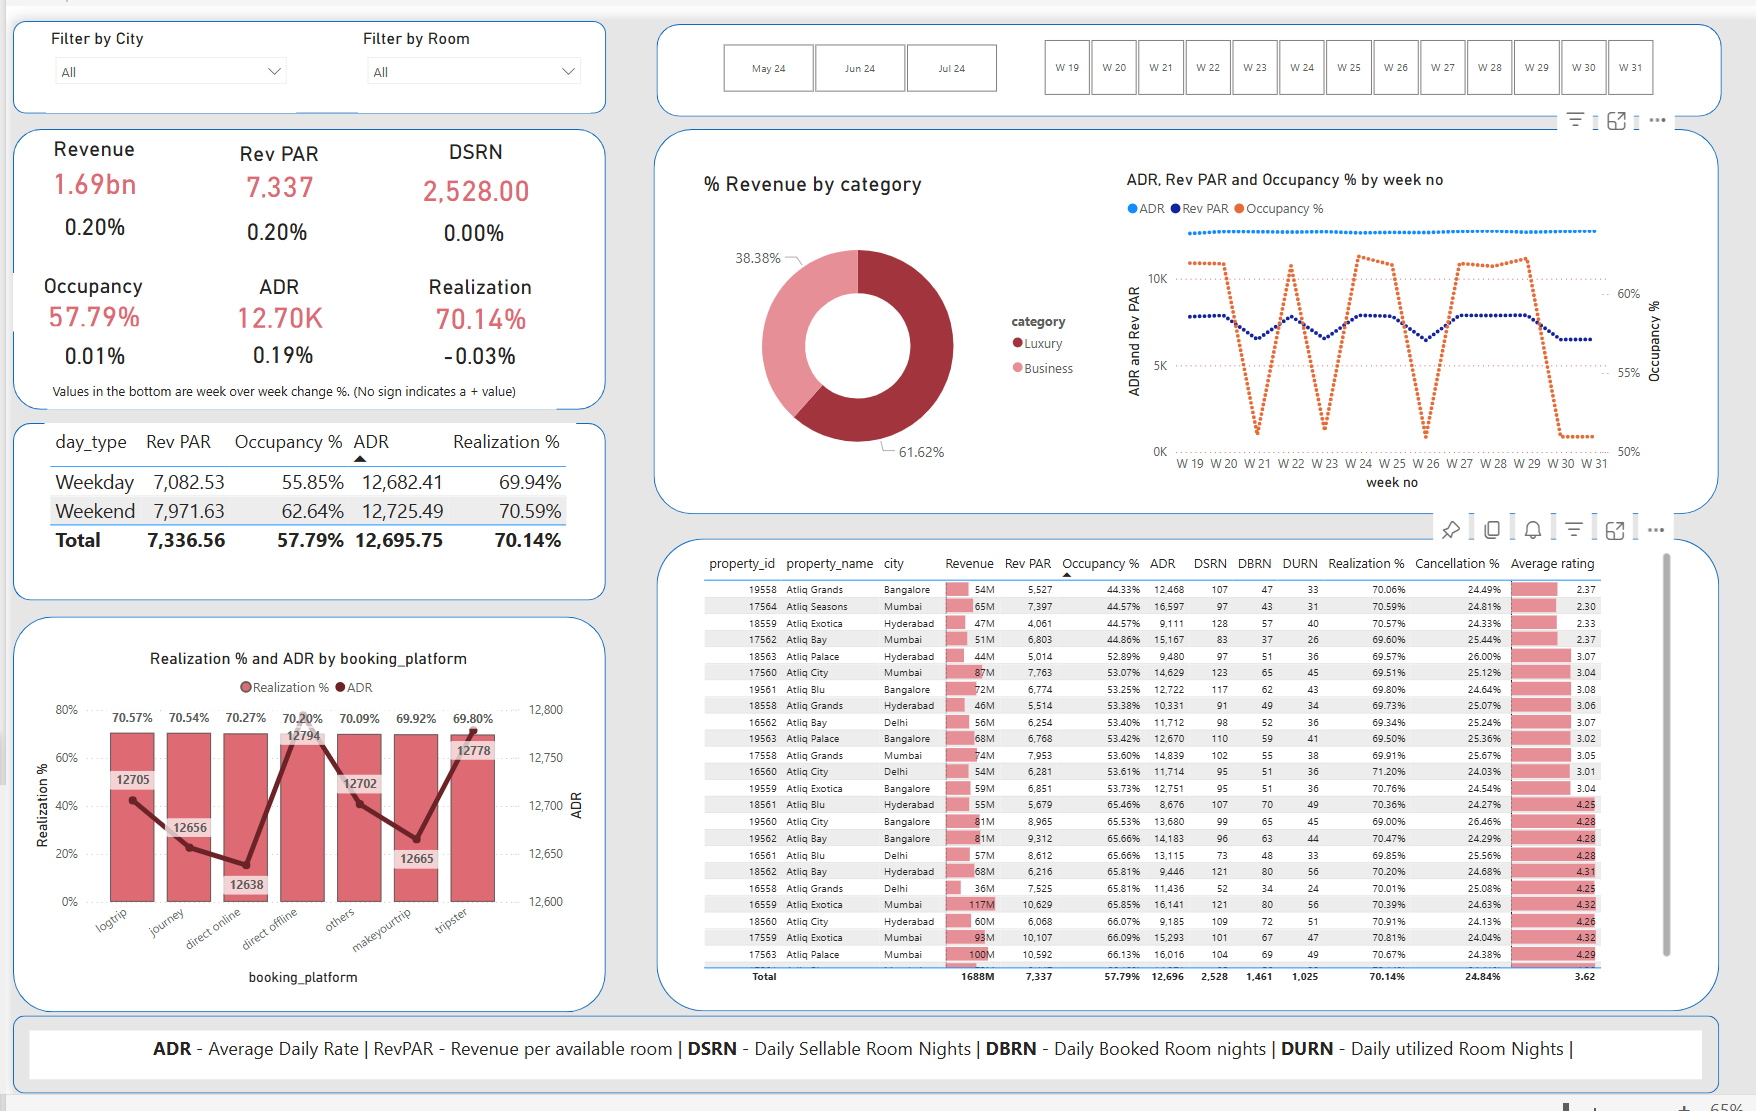

This screenshot's page, from the dashboard's own definition file:
{"tool":"powerbi","page":{"name":"Page 1","canvas":[1800,1100],"ordinal":0},"visuals":[{"type":"shape","box":[660,530,1090,485],"z":0},{"type":"shape","box":[657.5,110,1092.5,395],"z":1000},{"type":"shape","box":[0,110,608,288],"z":2000},{"type":"shape","box":[0,610,608,406],"z":3000},{"type":"shape","box":[0,412,608,182],"z":4000},{"type":"shape","box":[660,2.5,1092.5,95],"z":5000},{"type":"shape","box":[0,0,608.3,95],"z":6000},{"type":"tableEx","fields":{"Values":["dim_hotels.property_id","dim_hotels.property_name","dim_hotels.city","key_measures.Revenue","key_measures.Rev PAR","key_measures.Occupancy %","key_measures.ADR","key_measures.DSRN","key_measures.DBRN","key_measures.DURN","key_measures.Realization %","key_measures.Cancellation %"]},"box":[702.5,540,1002.5,452.5],"z":7000},{"type":"slicer","title":"Filter by City","fields":{"Values":["dim_hotels.city"]},"box":[33.3,8.3,256.7,86.7],"z":8000},{"type":"card","fields":{"Values":["key_measures.Revenue WoW change %"]},"box":[28,186,112,48],"z":9000},{"type":"slicer","title":"Filter by Room","fields":{"Values":["dim_rooms.room_class"]},"box":[353.3,8.3,238.3,86.7],"z":10000},{"type":"slicer","fields":{"Values":["dim_date.mmm yy"]},"box":[702.5,17.5,330,62.5],"z":11000},{"type":"card","title":"Revenue","fields":{"Values":["key_measures.Revenue"]},"box":[18,118,130,68],"z":12000},{"type":"donutChart","title":"% Revenue by category","fields":{"Category":["dim_hotels.category"],"Y":["key_measures.Revenue"]},"box":[703.3,153.3,400,333.3],"z":13000},{"type":"slicer","fields":{"Values":["dim_date.week no"]},"box":[1032,12,674,70],"z":14000},{"type":"tableEx","box":[253.3,163.3,73.3,70],"z":15000},{"type":"lineChart","fields":{"Category":["dim_date.week no"],"Y":["key_measures.ADR","key_measures.Rev PAR"],"Y2":["key_measures.Occupancy %"]},"box":[1137.5,152.5,557.5,332.5],"z":16000},{"type":"lineStackedColumnComboChart","fields":{"Category":["fact_bookings.booking_platform"],"Y":["key_measures.Realization %"],"Y2":["key_measures.ADR"]},"box":[17.5,642.5,572.5,350],"z":17000},{"type":"tableEx","fields":{"Values":["dim_date.day_type","key_measures.Rev PAR","key_measures.Occupancy %","key_measures.ADR","key_measures.Realization %"]},"box":[32.5,412.5,545,150],"z":18000},{"type":"card","title":"Rev PAR","fields":{"Values":["key_measures.Rev PAR"]},"box":[191.7,123.3,161.7,63.3],"z":19000},{"type":"card","title":"Realization","fields":{"Values":["key_measures.Realization %"]},"box":[398,260,162,62],"z":20000},{"type":"card","title":"ADR","fields":{"Values":["key_measures.ADR"]},"box":[211.7,260,121.7,60],"z":21000},{"type":"card","title":"Occupancy","fields":{"Values":["key_measures.Occupancy %"]},"box":[0,258.3,165,60],"z":22000},{"type":"card","title":"DSRN","fields":{"Values":["key_measures.DSRN"]},"box":[390,122,168,76],"z":23000},{"type":"shape","box":[0,1020,1750,80],"z":24000},{"type":"textbox","box":[17.5,1035,1715,50],"z":25000},{"type":"card","title":".","fields":{"Values":["key_measures.Rev PAR WoW change %"]},"box":[213.3,186.7,113.3,56.7],"z":26000},{"type":"card","fields":{"Values":["key_measures.Occupancy WoW change %"]},"box":[28.3,318.3,111.7,48.3],"z":27000},{"type":"card","fields":{"Values":["key_measures.ADR WoW change %"]},"box":[220,316.7,113.3,48.3],"z":28000},{"type":"card","fields":{"Values":["key_measures.Realisation WoW change %"]},"box":[422,318,112,48],"z":29000},{"type":"card","title":".","fields":{"Values":["key_measures.DSRN WoW change %"]},"box":[416,188,114,56],"z":30000},{"type":"textbox","box":[36,364,522,34],"z":31000}]}

Visuals, with their boxes on the page's 1800x1100 design canvas (x1, y1, x2, y2). These are canvas units, not pixel positions in the 1756x1111 screenshot, which may show the page scaled, cropped or inside an application window:
shape: Rect(660, 530, 1750, 1015)
shape: Rect(658, 110, 1750, 505)
shape: Rect(0, 110, 608, 398)
shape: Rect(0, 610, 608, 1016)
shape: Rect(0, 412, 608, 594)
shape: Rect(660, 2, 1752, 98)
shape: Rect(0, 0, 608, 95)
tableEx - dim_hotels.property_id x dim_hotels.property_name: Rect(702, 540, 1705, 992)
"Filter by City" slicer: Rect(33, 8, 290, 95)
card - key_measures.Revenue WoW change %: Rect(28, 186, 140, 234)
"Filter by Room" slicer: Rect(353, 8, 592, 95)
slicer - dim_date.mmm yy: Rect(702, 18, 1032, 80)
"Revenue" card: Rect(18, 118, 148, 186)
"% Revenue by category" donutChart: Rect(703, 153, 1103, 487)
slicer - dim_date.week no: Rect(1032, 12, 1706, 82)
tableEx: Rect(253, 163, 327, 233)
lineChart - dim_date.week no x key_measures.ADR: Rect(1138, 152, 1695, 485)
lineStackedColumnComboChart - fact_bookings.booking_platform x key_measures.Realization %: Rect(18, 642, 590, 992)
tableEx - dim_date.day_type x key_measures.Rev PAR: Rect(32, 412, 578, 562)
"Rev PAR" card: Rect(192, 123, 353, 187)
"Realization" card: Rect(398, 260, 560, 322)
"ADR" card: Rect(212, 260, 333, 320)
"Occupancy" card: Rect(0, 258, 165, 318)
"DSRN" card: Rect(390, 122, 558, 198)
shape: Rect(0, 1020, 1750, 1100)
textbox: Rect(18, 1035, 1732, 1085)
"." card: Rect(213, 187, 327, 243)
card - key_measures.Occupancy WoW change %: Rect(28, 318, 140, 367)
card - key_measures.ADR WoW change %: Rect(220, 317, 333, 365)
card - key_measures.Realisation WoW change %: Rect(422, 318, 534, 366)
"." card: Rect(416, 188, 530, 244)
textbox: Rect(36, 364, 558, 398)
